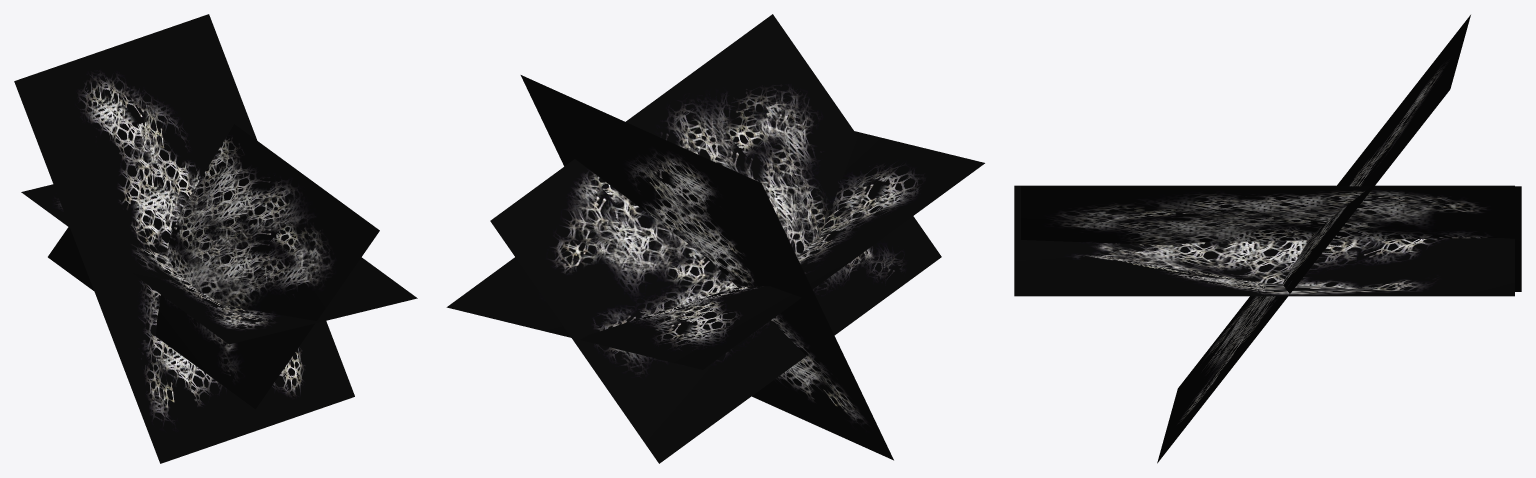
Rendered from FungisAtlas1.fbx.
3 views of the same model, side by side, from view 1: azimuth 30°, elevation 25°; view 2: azimuth 150°, elevation 25°; view 3: azimuth 270°, elevation 25° (orthographic). The views are drawn at different scales.
Parts seen in each view (by area): view 1: Plane.011; view 2: Plane.011; view 3: Plane.011.
Part boxes in pixels (bbox=[...]): Plane.011: bbox=[14, 14, 417, 463]; Plane.011: bbox=[446, 14, 984, 463]; Plane.011: bbox=[1014, 15, 1521, 463].
Bounding box in the file's own units: 113 × 166 × 194.
